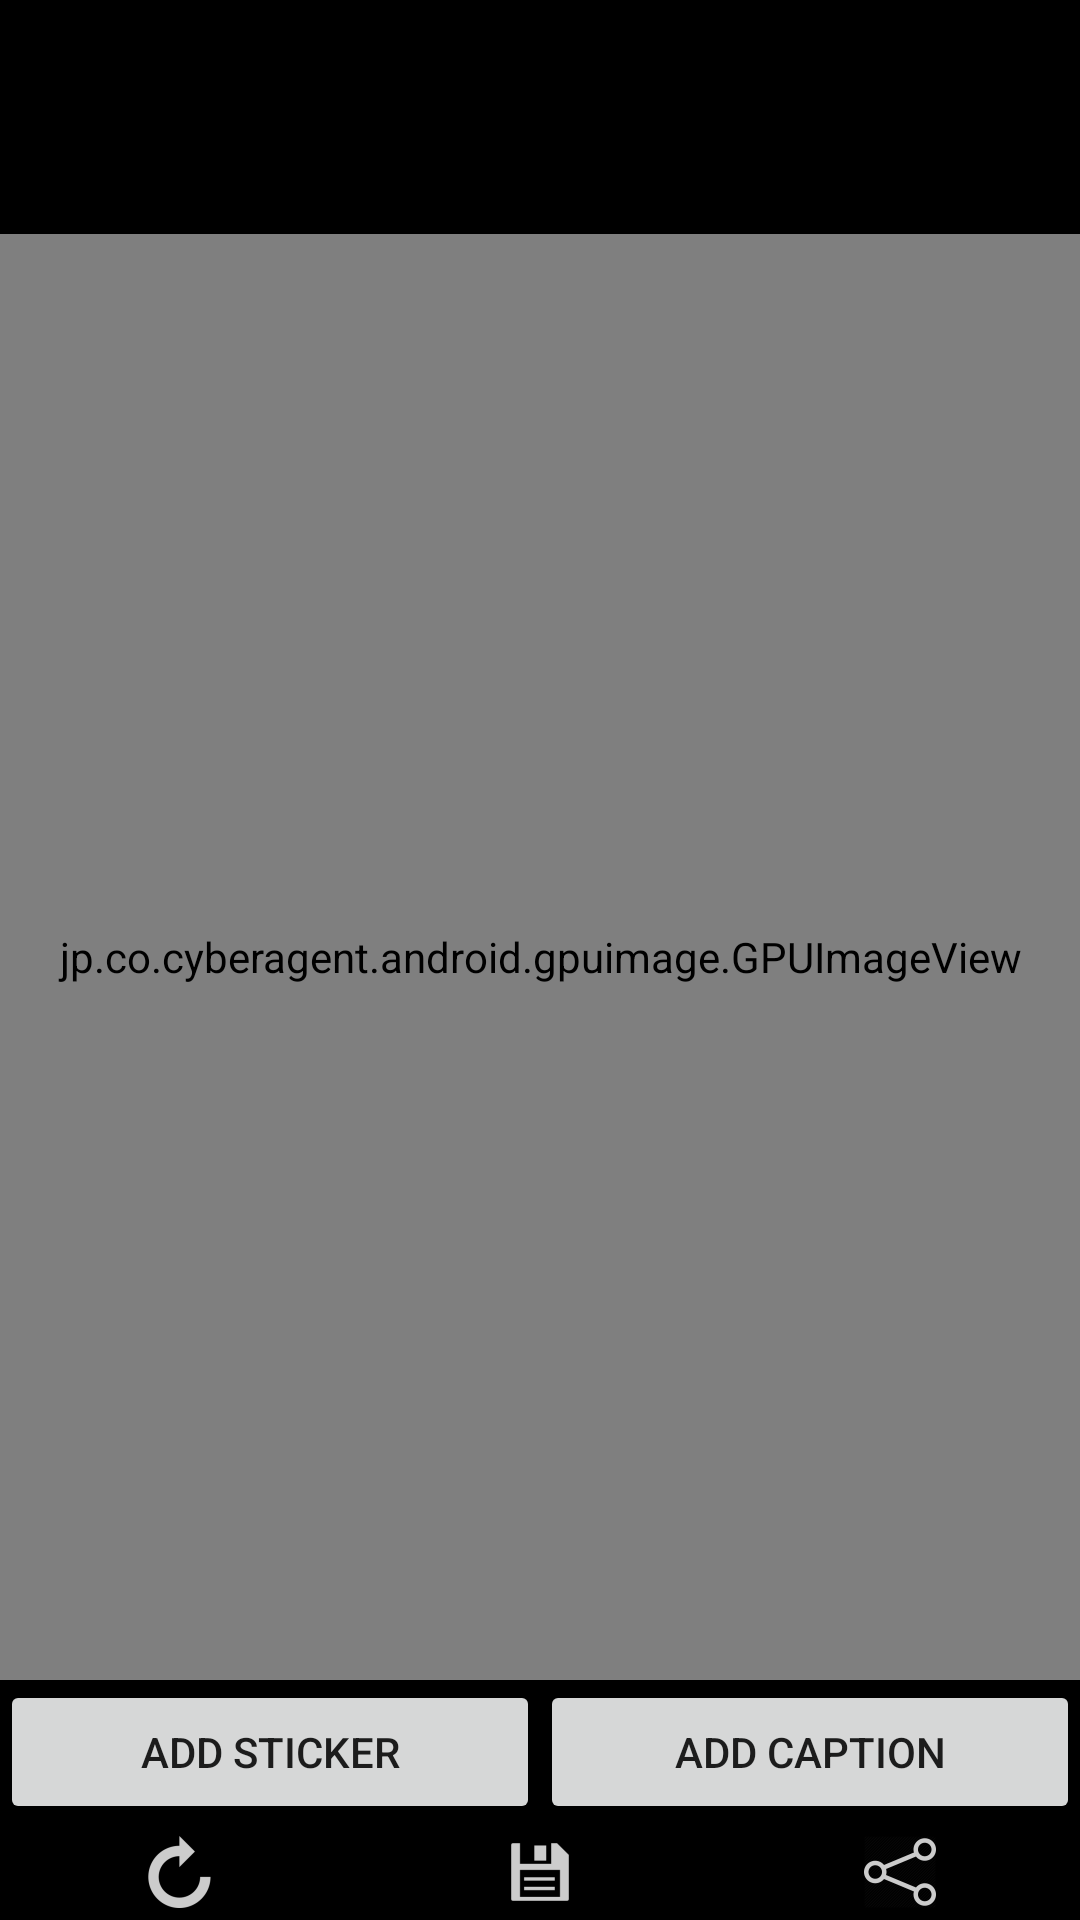

Named icons in this screenshot (1080*1920) and their bounding boxes, rect(x1, y1, x2, y2):
rotate: rect(148, 1836, 211, 1908)
save: rect(511, 1843, 569, 1901)
share: rect(864, 1838, 936, 1906)
